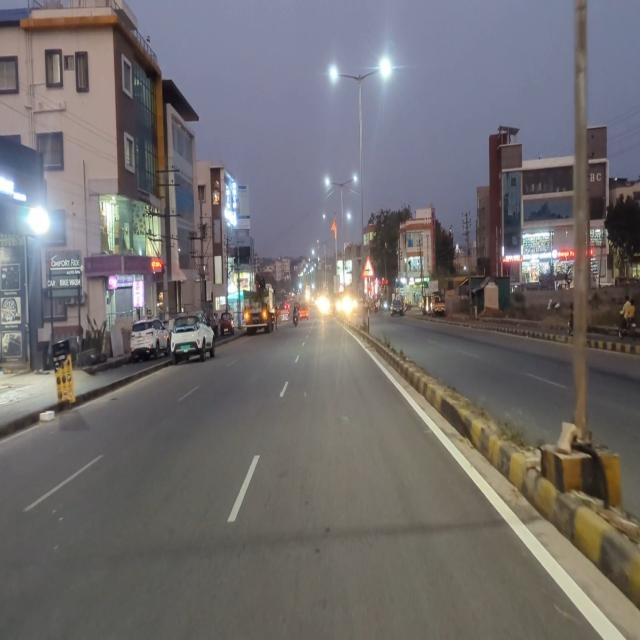bien_nguy_hiem: (361, 254, 374, 278)
